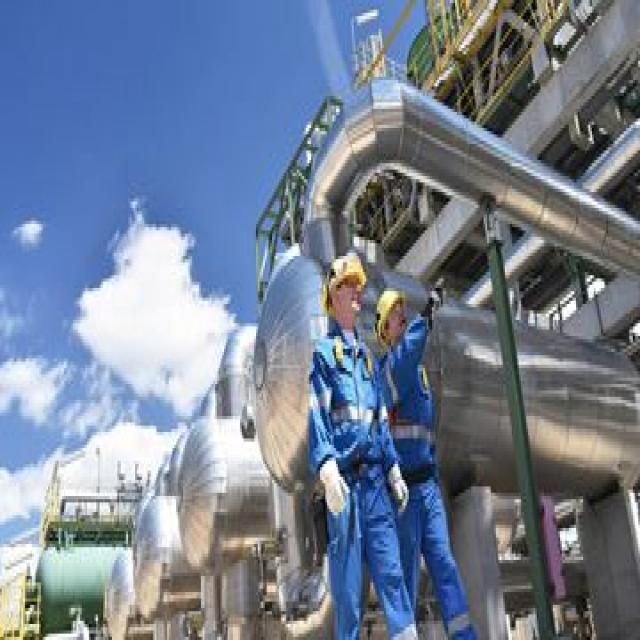vest: (306, 336, 414, 640), (380, 315, 478, 640)
